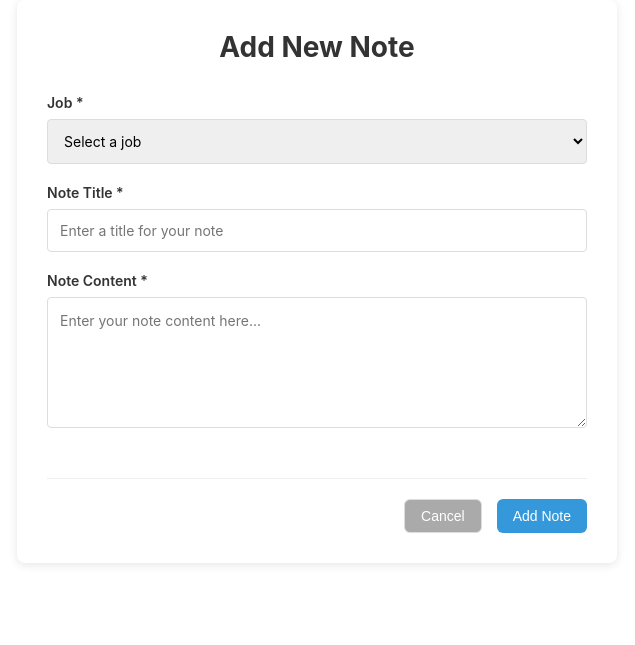
Test case: NotesForm Component › Form Submission - Add Mode › handles submission error gracefully
Select "TechCorp" in the dropdown labelled "Job *" at (317, 142), box [47,119,587,164]
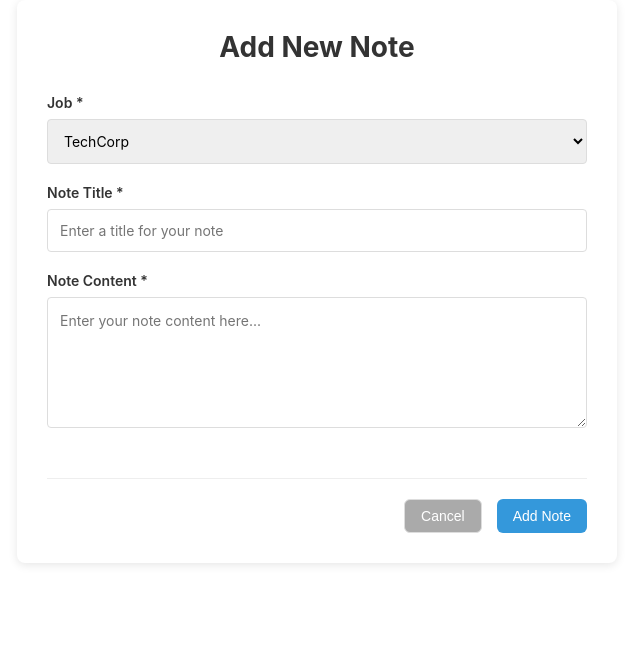
Type "Test" into the field labelled "Note Title *".
click(317, 230); type("Test")  # box [47,209,587,252]
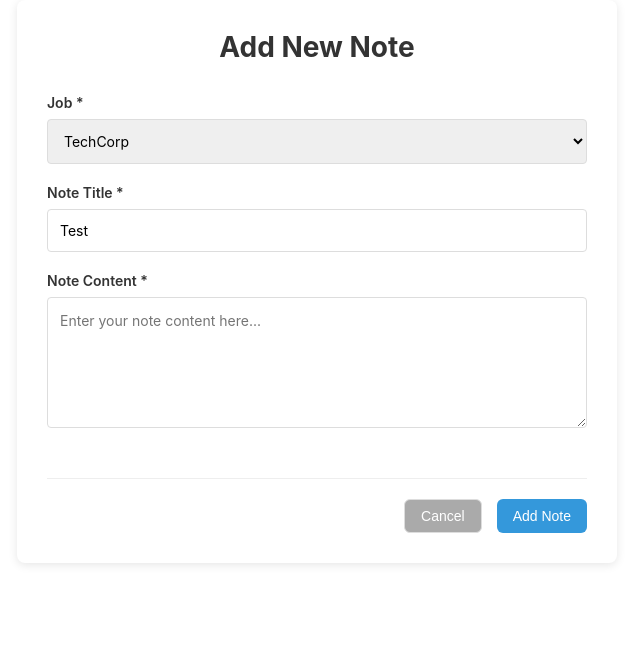
Type "Content" into the text box labelled "Note Content *".
click(317, 362); type("Content")  # box [47,297,587,428]
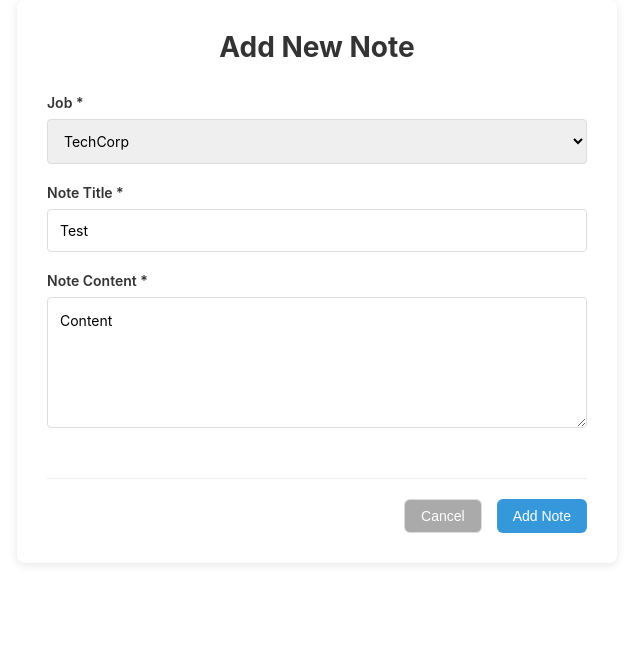
Click the button "Add Note".
click(542, 516)  # box [497,499,587,533]
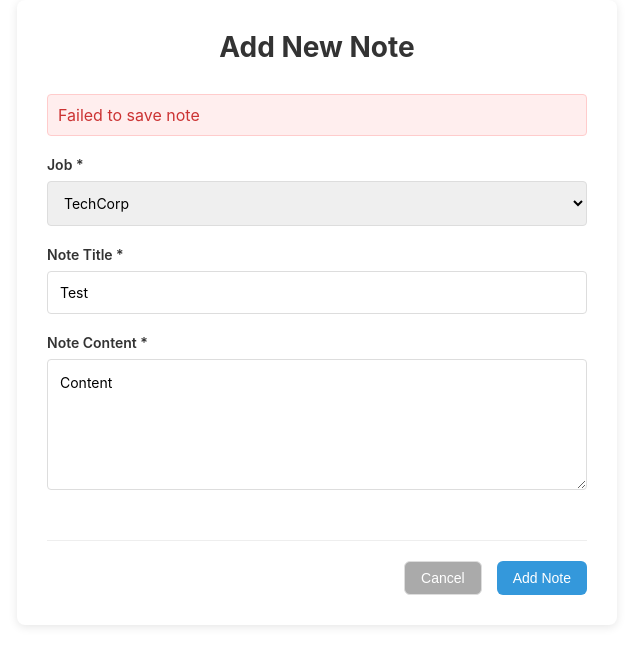
Expected: the text "Failed to save note" is shown, [47,94,587,136]
